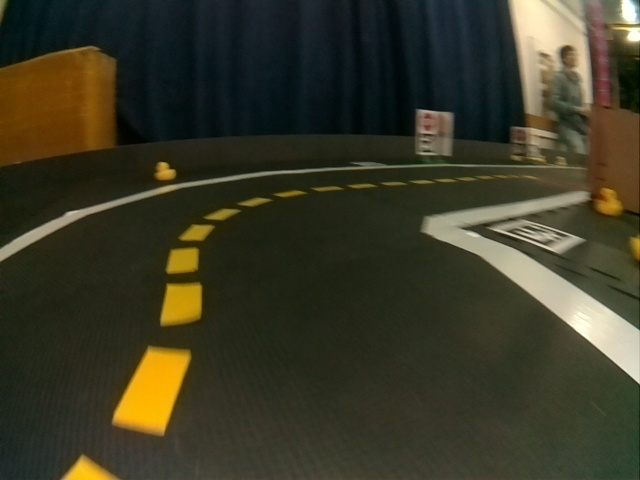Duckie: (596, 189, 622, 214), (154, 162, 176, 180), (630, 235, 640, 261)
QR code: (492, 218, 584, 254), (417, 135, 436, 154)
Stop sign: (419, 112, 437, 133)
